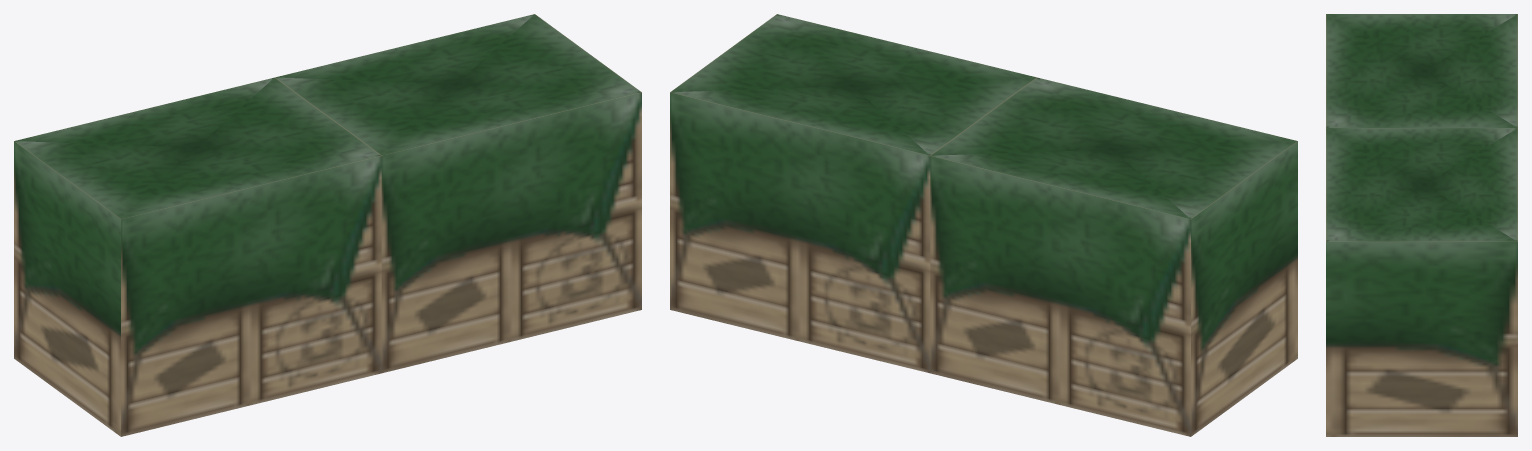
File: crateswithtarp.glb
3 views of the same model, side by side, from view 1: azimuth 30°, elevation 25°; view 2: azimuth 150°, elevation 25°; view 3: azimuth 270°, elevation 25° (orthographic). The views are drawn at different scales.
Visible parts, largest first — view 1: crateswithtarps01; view 2: crateswithtarps01; view 3: crateswithtarps01.
Boxes of the visible parts, box(x1,y1,x2,y2) form: crateswithtarps01: box(14, 14, 641, 436); crateswithtarps01: box(670, 14, 1297, 436); crateswithtarps01: box(1326, 14, 1517, 436).
Size of the model in its own units: 8.5 by 3.39 by 3.02.
1 material, 1 textured.
